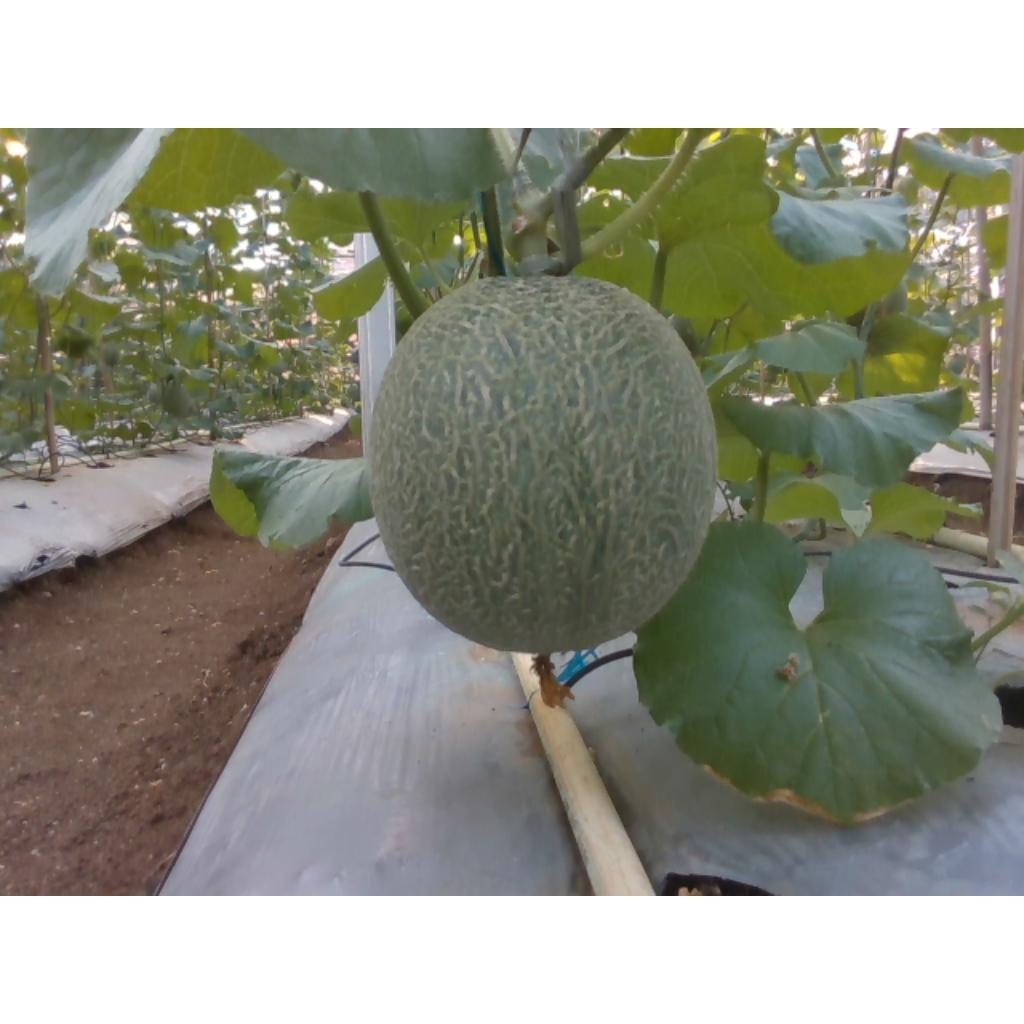melon: (373, 275, 715, 654)
